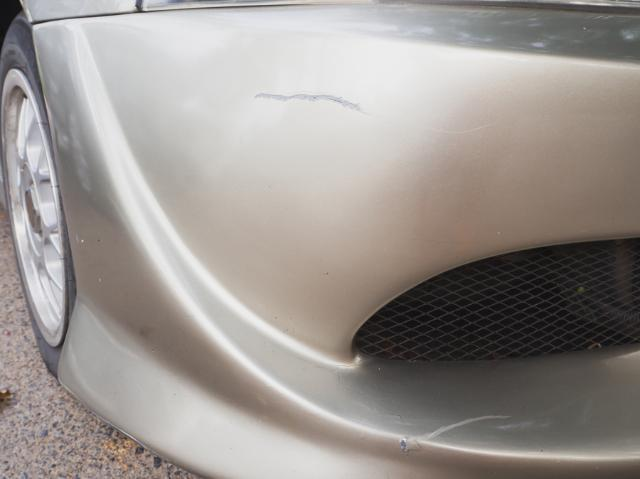Bumper: (230, 72, 423, 198), (342, 371, 557, 469)
